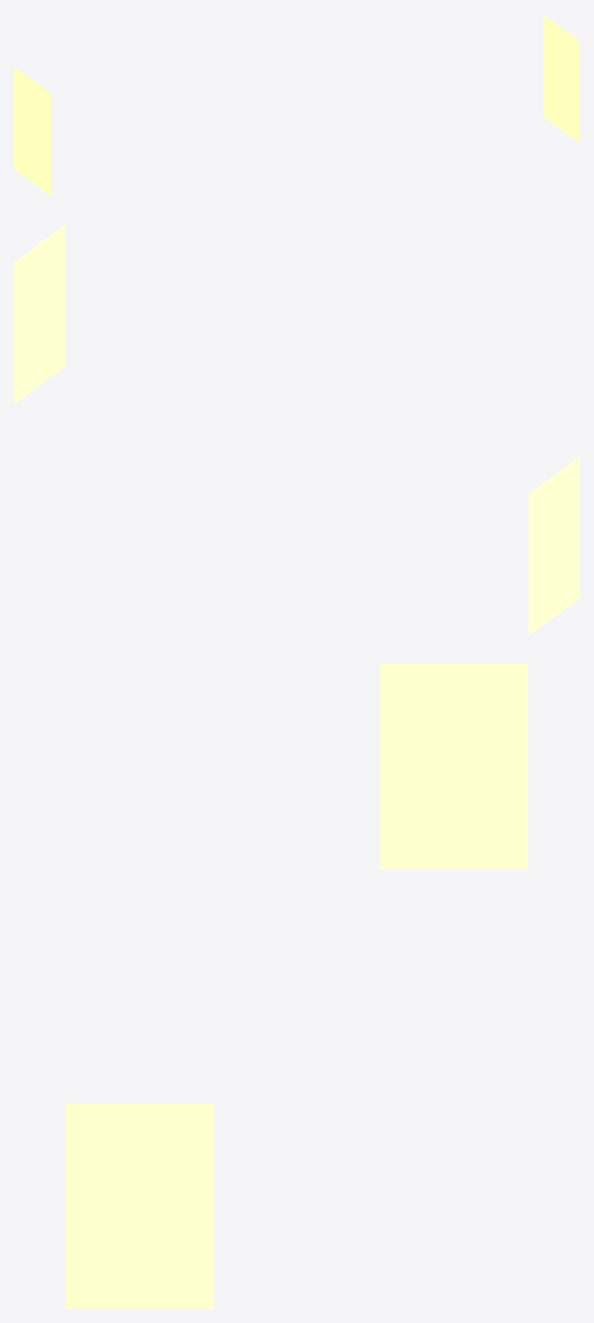
The model's file is SM_Mim_M_SicakCam.fbx.
3 views of the same model, one above another, from view 1: azimuth 30°, elevation 25°; view 2: azimuth 150°, elevation 25°; view 3: azimuth 270°, elevation 25° (orthographic). The views are drawn at different scales.
Visible parts, largest first — view 1: SM_Mim_M_SicakCam; view 2: SM_Mim_M_SicakCam; view 3: SM_Mim_M_SicakCam.
Boxes of the visible parts, bbox=[...] form: SM_Mim_M_SicakCam: bbox=[14, 14, 579, 196]; SM_Mim_M_SicakCam: bbox=[14, 225, 579, 635]; SM_Mim_M_SicakCam: bbox=[66, 664, 527, 1308].
Size of the model in its own units: 5.98 by 2.65 by 1.3.
